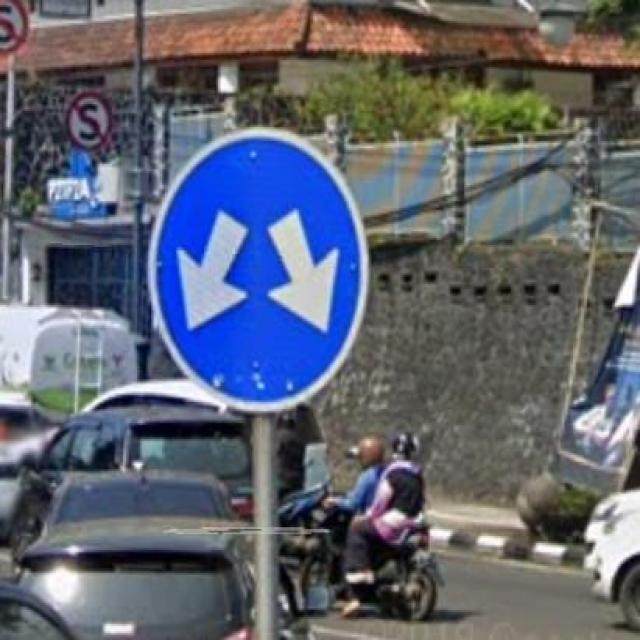traffic sign: (148, 127, 374, 412)
